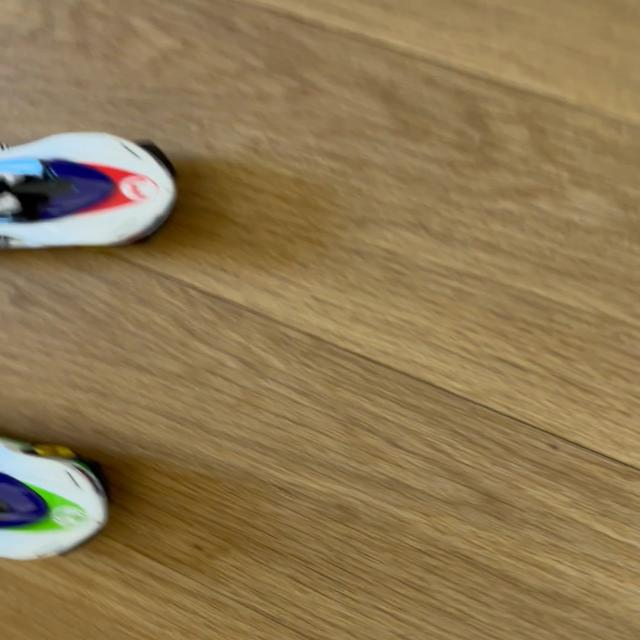mario: (3, 125, 206, 265)
yoshi: (0, 390, 127, 567)
